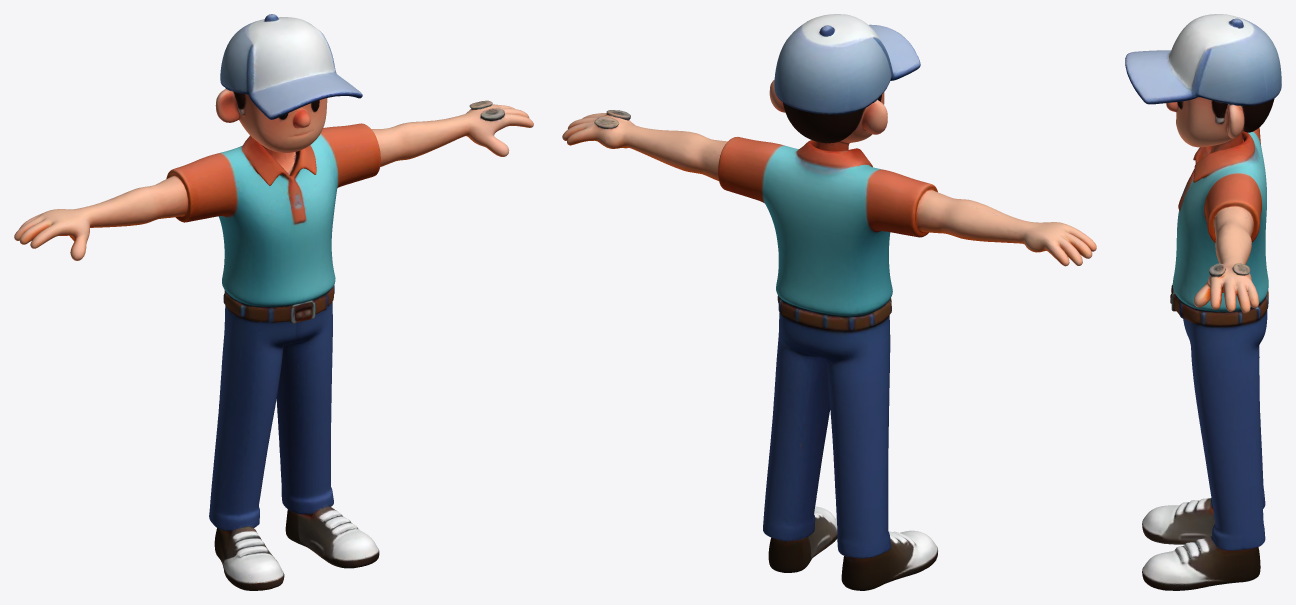
The picture shows the model from 3 angles, left to right: view 1: azimuth 30°, elevation 25°; view 2: azimuth 150°, elevation 25°; view 3: azimuth 270°, elevation 25°; orthographic projection. The views are drawn at different scales.
Parts seen in each view (by area): view 1: world; view 2: world; view 3: world.
Boxes of the visible parts, bbox=[...] form: world: bbox=[14, 14, 533, 590]; world: bbox=[562, 14, 1096, 590]; world: bbox=[1125, 14, 1281, 590].
Size of the model in its own units: 1 by 1 by 0.264.
Materials: 1 (1 with a texture image).
